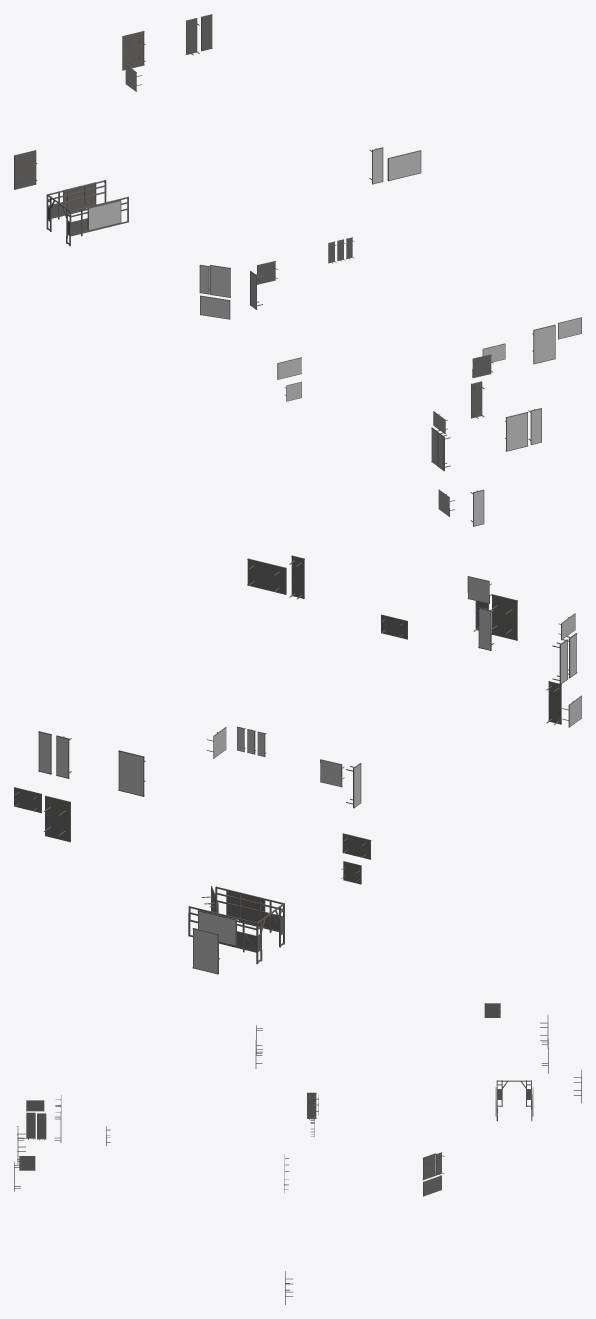
File: Signboard_SetA.fbx
3 views of the same model, one above another, from view 1: azimuth 30°, elevation 25°; view 2: azimuth 150°, elevation 25°; view 3: azimuth 270°, elevation 25° (orthographic). The views are drawn at different scales.
Parts seen in each view (by area): view 1: SM_ENV_AMVLLG02_Signboard_SetA.mo; view 2: SM_ENV_AMVLLG02_Signboard_SetA.mo; view 3: SM_ENV_AMVLLG02_Signboard_SetA.mo.
Boxes of the visible parts, x1,y1,x2,y2 form: SM_ENV_AMVLLG02_Signboard_SetA.mo: (14,14,581,526); SM_ENV_AMVLLG02_Signboard_SetA.mo: (14,555,581,974); SM_ENV_AMVLLG02_Signboard_SetA.mo: (14,1003,581,1304).
Size of the model in its own units: 6797 by 4761 by 11927.
